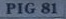character: (24, 1, 35, 14), (6, 1, 16, 14), (40, 1, 50, 14), (50, 2, 57, 14), (17, 1, 23, 14)
